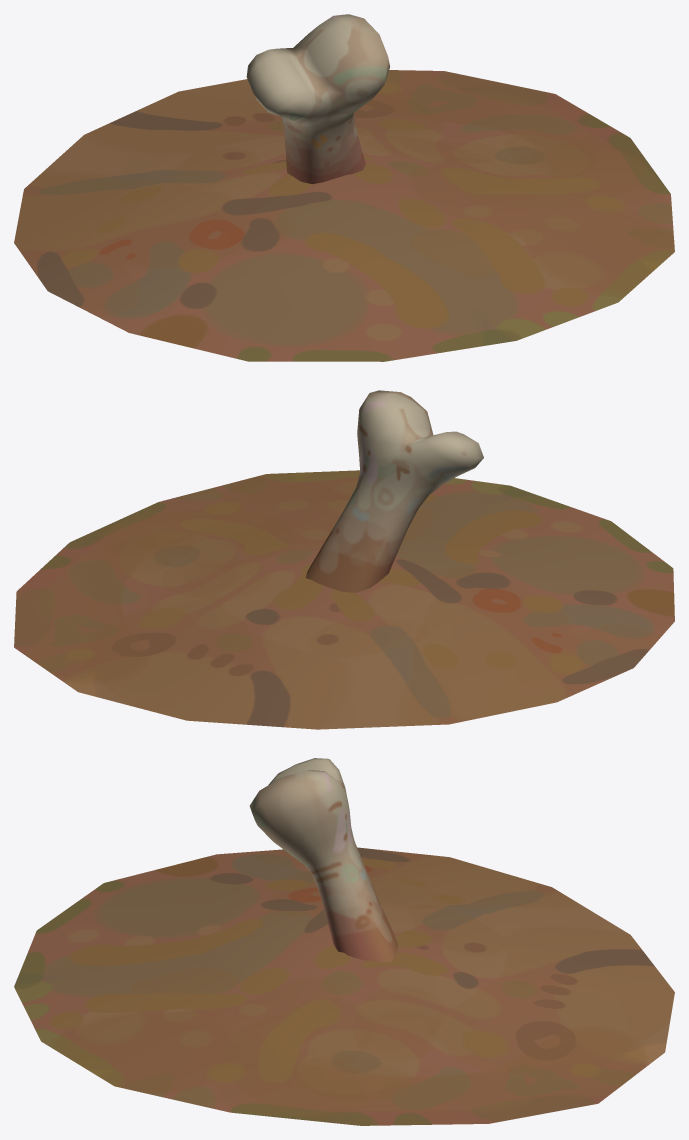
The model's file is BoneMeDadi.fbx.
The picture shows the model from 3 angles, top to bottom: view 1: azimuth 30°, elevation 25°; view 2: azimuth 150°, elevation 25°; view 3: azimuth 270°, elevation 25°; orthographic projection. The views are drawn at different scales.
Visible parts, largest first — view 1: Plane; view 2: Plane; view 3: Plane.
Boxes of the visible parts, <box> form: Plane: <box>14,14,674,361</box>; Plane: <box>14,390,674,729</box>; Plane: <box>14,758,674,1125</box>.
Bounding box in the file's own units: 180 × 64.27 × 180.
Materials: 1 (1 with a texture image).
